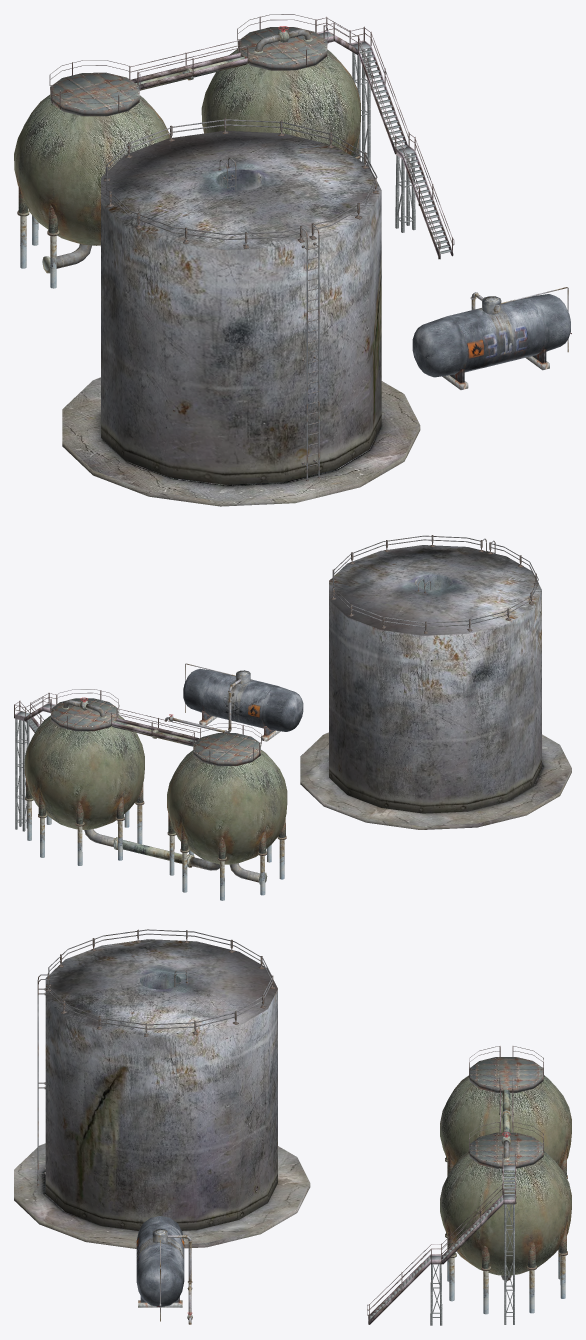
The model's file is large_industrial_storage_tanks.glb.
3 renders of one model, top to bottom at view 1: azimuth 30°, elevation 25°; view 2: azimuth 150°, elevation 25°; view 3: azimuth 270°, elevation 25°, orthographic. The views are drawn at different scales.
Visible parts, largest first — view 1: pCylinder2, Round_TankB, Round_TankA, Long_Tank1:Long_TankA, StairA, StairB, polySurface496, Round_TankB_Legs, SupportA, SupportB, PipebendE; view 2: pCylinder2, Round_TankB, Round_TankA, Long_Tank1:Long_TankA, Round_TankB_Legs, Round_TankA_Legs, polySurface496, SupportB, SupportC, PipeA; view 3: pCylinder2, Round_TankA, Round_TankB, Long_Tank1:Long_TankA, Round_TankA_Legs, StairB, StairA.
Boxes of the visible parts, x1,y1,x2,y2 form: pCylinder2: (62,118,420,506); Round_TankB: (14,72,170,245); Round_TankA: (201,27,360,155); Long_Tank1:Long_TankA: (412,294,570,389); StairA: (395,132,454,259); StairB: (349,26,408,153); polySurface496: (129,40,247,89); Round_TankB_Legs: (17,184,59,288); SupportA: (395,153,415,232); SupportB: (352,48,370,124); PipebendE: (42,244,91,273); pCylinder2: (300,535,571,829); Round_TankB: (167,733,287,864); Round_TankA: (24,698,144,829); Long_Tank1:Long_TankA: (183,668,303,741); Round_TankB_Legs: (167,814,286,900); Round_TankA_Legs: (25,779,144,865); polySurface496: (111,708,200,745); SupportB: (15,719,29,775); SupportC: (15,771,27,831); PipeA: (115,837,190,863); pCylinder2: (14,929,310,1248); Round_TankA: (440,1132,571,1275); Round_TankB: (440,1057,571,1167); Long_Tank1:Long_TankA: (136,1216,184,1307); Round_TankA_Legs: (445,1227,567,1314); StairB: (441,1182,516,1264); StairA: (367,1243,441,1324).
Bounding box in the file's own units: 28.42 × 14.38 × 33.45.
5 materials, 5 textured.
